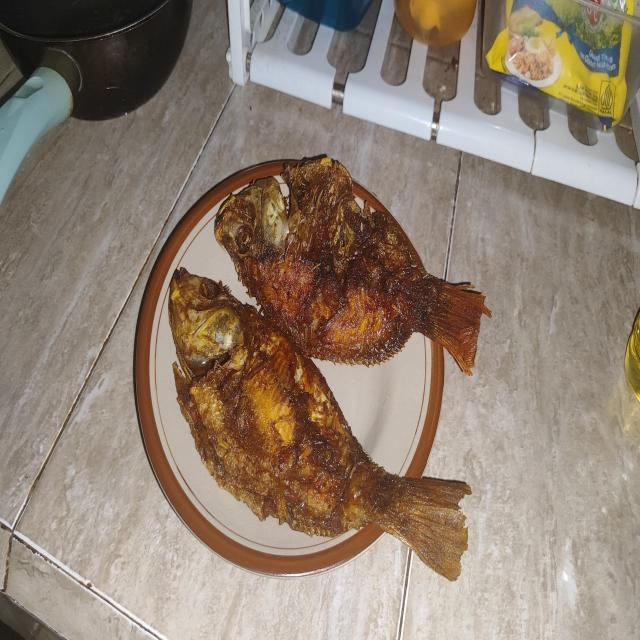ikan_mujair: (168, 268, 471, 580), (214, 156, 490, 375)
